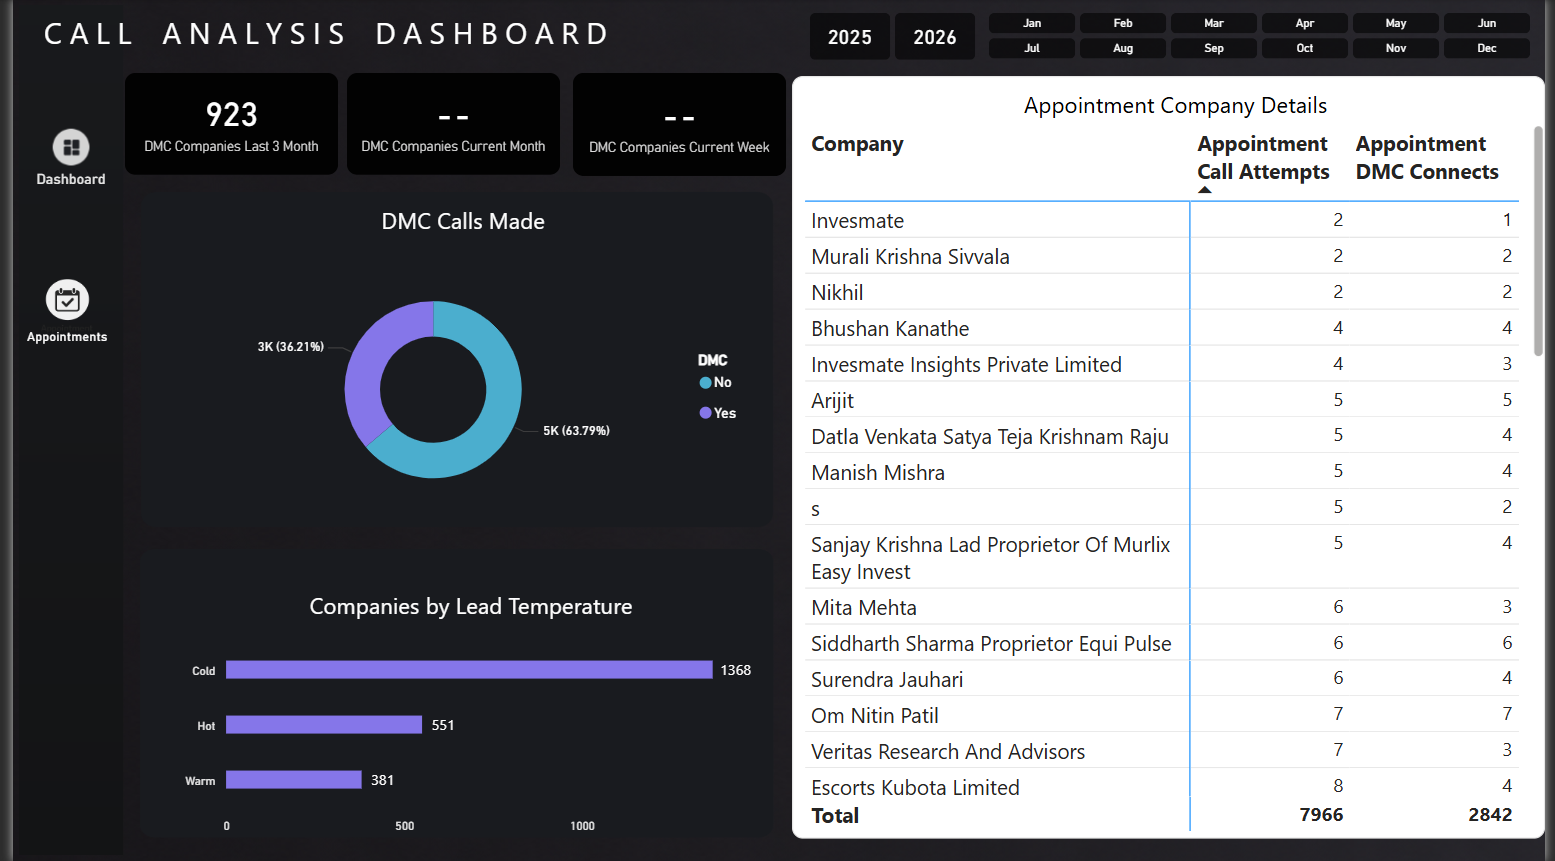

The page's visual inventory and layout, read from the dashboard file:
{"tool":"powerbi","page":{"name":"Appointment","canvas":[1280,720],"ordinal":1},"visuals":[{"type":"image","box":[0,0,97,720],"z":0},{"type":"image","box":[102.2,155.9,538,290],"z":0,"group":"g3"},{"type":"image","box":[0,188.5,90.7,140],"z":0,"group":"g1"},{"type":"image","box":[101.1,454.1,539.4,250.7],"z":0,"group":"g2"},{"type":"advancedSlicerVisual","fields":{"Values":["Calendar.Month Name"]},"box":[810,6.4,462.7,50],"z":1000},{"type":"donutChart","fields":{"Category":["Worksheet Data.DMC"],"Y":["_Measures.Total Dails Made"]},"box":[125,226.2,500,200],"z":1000,"group":"g3"},{"type":"textbox","box":[0,271.1,90.7,24.2],"z":1000,"group":"g1"},{"type":"barChart","fields":{"Category":["Worksheet Data.Lead Temperature"],"Y":["_Measures.Unique Companies"]},"box":[136.6,520.7,495.6,183.6],"z":1000,"group":"g2"},{"type":"advancedSlicerVisual","fields":{"Values":["Calendar.Year"]},"box":[660.9,6.4,149.1,50],"z":2000},{"type":"textbox","box":[129.8,166.7,493.3,41.4],"z":2000,"group":"g3"},{"type":"textbox","box":[131.8,488.3,501.4,41.4],"z":2000,"group":"g2"},{"type":"textbox","box":[20.6,6.3,512.6,50.3],"z":3000},{"type":"actionButton","box":[0,79.9,97,96.1],"z":4000},{"type":"group","id":"g1","title":"Appointments Buttion","box":[0,188.5,90.7,140],"z":5000},{"type":"cardVisual","fields":{"Data":["_Measures.DMC Companies Last 3 Month"]},"box":[88.5,56.9,188.6,95.9],"z":7000},{"type":"cardVisual","fields":{"Data":["_Measures.DMC Companies Current Month"]},"box":[273.9,56.9,188.6,95.9],"z":8000},{"type":"cardVisual","fields":{"Data":["_Measures.DMC Companies Current Week"]},"box":[462.5,56.9,188.6,96.9],"z":9000},{"type":"group","id":"g2","title":"Lead Temperature Bar Chart","box":[101.1,454.1,539.4,250.7],"z":10000},{"type":"group","id":"g3","title":"DMC Call Pie","box":[102.2,155.9,538.3,289.7],"z":11000},{"type":"pivotTable","title":"Appointment Company Details","fields":{"Rows":["Worksheet Data.Comapny"],"Values":["_Measures.Appointment Call Attempts","_Measures.Appointment DMC Connects"]},"box":[651.1,64.3,628.9,637.4],"z":12000}]}

Visuals, with their boxes in screenshot pixels (x1, y1, x2, y2), scaled from the page's 1280x720 canvas onto the 1555x861 screenshot:
image: pyautogui.locateOnScreen(0, 0, 118, 860)
image: pyautogui.locateOnScreen(124, 186, 778, 533)
image: pyautogui.locateOnScreen(0, 225, 110, 393)
image: pyautogui.locateOnScreen(123, 543, 778, 843)
advancedSlicerVisual - Calendar.Month Name: pyautogui.locateOnScreen(984, 8, 1546, 67)
donutChart - Worksheet Data.DMC x _Measures.Total Dails Made: pyautogui.locateOnScreen(152, 270, 759, 510)
textbox: pyautogui.locateOnScreen(0, 324, 110, 353)
barChart - Worksheet Data.Lead Temperature x _Measures.Unique Companies: pyautogui.locateOnScreen(166, 623, 768, 842)
advancedSlicerVisual - Calendar.Year: pyautogui.locateOnScreen(803, 8, 984, 67)
textbox: pyautogui.locateOnScreen(158, 199, 757, 249)
textbox: pyautogui.locateOnScreen(160, 584, 769, 633)
textbox: pyautogui.locateOnScreen(25, 8, 648, 68)
actionButton: pyautogui.locateOnScreen(0, 96, 118, 210)
"Appointments Buttion" group: pyautogui.locateOnScreen(0, 225, 110, 393)
cardVisual - _Measures.DMC Companies Last 3 Month: pyautogui.locateOnScreen(108, 68, 337, 183)
cardVisual - _Measures.DMC Companies Current Month: pyautogui.locateOnScreen(333, 68, 562, 183)
cardVisual - _Measures.DMC Companies Current Week: pyautogui.locateOnScreen(562, 68, 791, 184)
"Lead Temperature Bar Chart" group: pyautogui.locateOnScreen(123, 543, 778, 843)
"DMC Call Pie" group: pyautogui.locateOnScreen(124, 186, 778, 533)
"Appointment Company Details" pivotTable: pyautogui.locateOnScreen(791, 77, 1554, 839)
